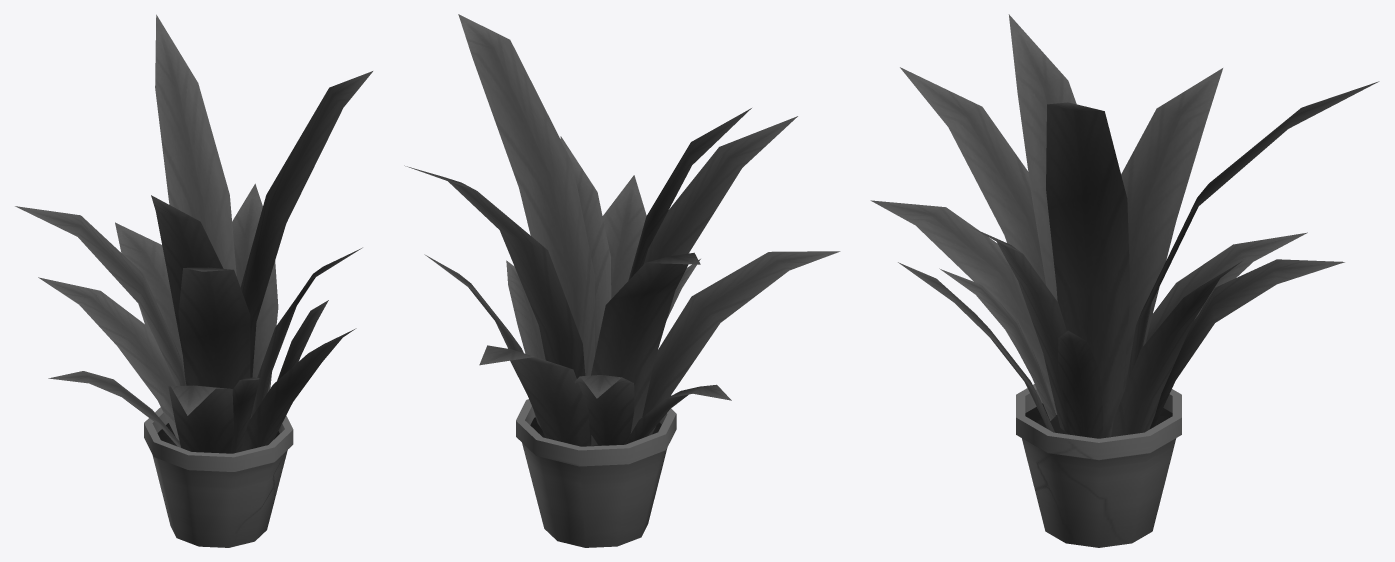
Rendered from mdl_plant.fbx.
3 views of the same model, side by side, from view 1: azimuth 30°, elevation 25°; view 2: azimuth 150°, elevation 25°; view 3: azimuth 270°, elevation 25° (orthographic). The views are drawn at different scales.
Visible parts, largest first — view 1: mesh_plant; view 2: mesh_plant; view 3: mesh_plant.
Boxes of the visible parts, x1=… form: mesh_plant: x1=15, y1=14, x2=372, y2=547; mesh_plant: x1=404, y1=14, x2=840, y2=547; mesh_plant: x1=870, y1=14, x2=1379, y2=547.
Size of the model in its own units: 35.98 by 50.79 by 46.83.
1 material, 1 textured.
